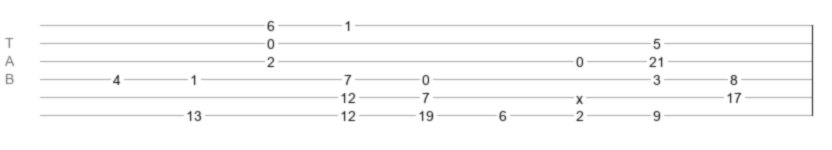0: (267, 36, 275, 46), (422, 72, 430, 82), (576, 54, 584, 64)
1: (190, 72, 198, 82), (344, 18, 352, 28)
12: (340, 108, 356, 118), (340, 90, 356, 100)
13: (186, 108, 202, 118)
17: (726, 90, 742, 100)
19: (418, 108, 434, 118)
2: (267, 54, 275, 64), (576, 108, 584, 118)
21: (649, 54, 665, 64)
3: (653, 72, 661, 82)
4: (113, 72, 121, 82)
5: (653, 36, 661, 46)
6: (267, 18, 275, 28), (499, 108, 507, 118)
7: (344, 72, 352, 82), (422, 90, 430, 100)
8: (730, 72, 738, 82)
9: (653, 108, 661, 118)
x: (576, 91, 583, 99)
